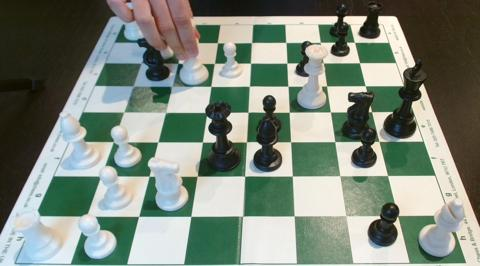xcorner: (317, 37, 328, 48), (282, 37, 293, 48), (160, 107, 171, 118), (352, 37, 363, 47), (248, 37, 258, 48), (213, 37, 223, 48), (143, 38, 154, 48), (283, 58, 294, 68), (246, 58, 257, 68), (136, 58, 146, 69), (362, 81, 373, 91), (323, 81, 334, 91), (167, 81, 177, 92), (128, 81, 138, 92), (368, 107, 379, 117), (243, 107, 254, 117), (202, 107, 212, 118), (119, 107, 129, 118), (375, 137, 386, 147), (286, 137, 297, 147), (108, 137, 119, 147), (383, 171, 394, 181), (335, 171, 346, 181), (287, 171, 298, 181), (239, 171, 250, 181), (192, 171, 202, 182), (144, 171, 154, 182), (96, 171, 106, 182), (237, 211, 248, 221), (185, 211, 196, 221), (178, 38, 188, 48), (357, 58, 367, 68), (320, 58, 330, 68), (210, 58, 220, 68), (173, 58, 183, 68), (284, 81, 294, 91), (245, 81, 255, 91), (206, 81, 216, 91), (327, 107, 337, 117), (285, 107, 295, 117), (331, 137, 341, 147), (242, 137, 252, 147), (197, 137, 207, 147), (153, 137, 163, 147), (393, 211, 403, 221), (341, 211, 351, 221), (289, 211, 299, 221), (134, 211, 144, 221), (82, 211, 92, 221)
